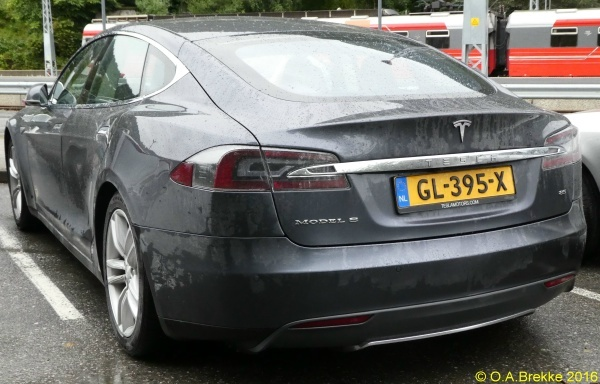number_plate: (392, 161, 517, 213)
